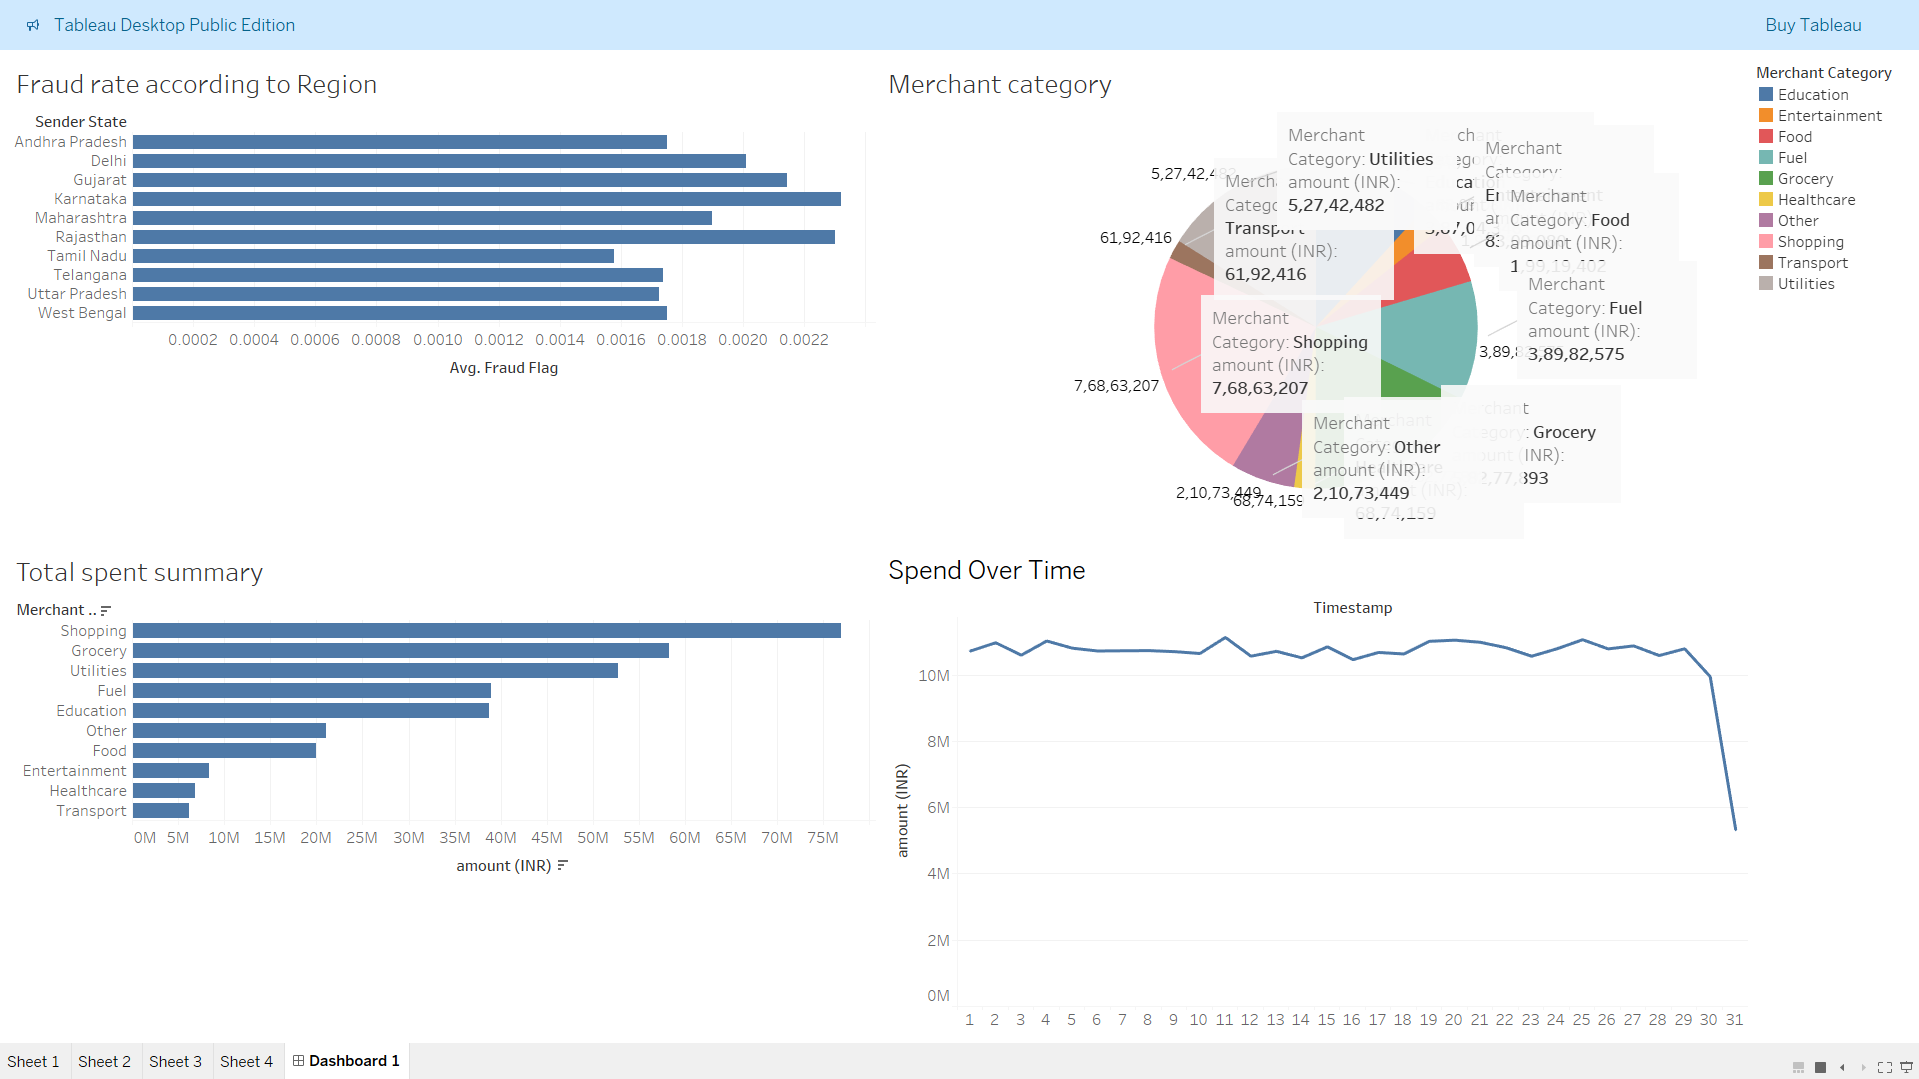

This screenshot's page, from the dashboard's own definition file:
{"tool":"tableau","page":{"name":"Dashboard 1","canvas":[1000,1000],"units":"permille","ordinal":0},"visuals":[{"type":"worksheet","title":"Sheet 1","mark":"Automatic","rows":["sender_state"],"cols":["fraud_flag"],"box":[4.8,10,446.9,490]},{"type":"worksheet","title":"Sheet 2","mark":"Pie","box":[451.7,10,446.9,490]},{"type":"legend","title":"Sheet 2","param":"[federated.0o2zn4q12iucto19ljjx91whzk4z].[none:merchant_category:nk]","box":[898.6,10,96.6,299.6]},{"type":"worksheet","title":"Sheet 3","mark":"Automatic","rows":["merchant_category"],"cols":["amount (INR)"],"box":[4.8,500,446.9,490.1]},{"type":"worksheet","title":"Sheet 4","mark":"Automatic","rows":["amount (INR)"],"cols":["timestamp"],"box":[451.7,500,446.9,490.1]}]}

Visuals, with their boxes on the dashboard's canvas, which has no fixed pixel size, in thousandths of its width and height (x1, y1, x2, y2). These are canvas units, not pixel positions in the 1919x1079 screenshot, which may show the page scaled, cropped or inside an application window:
"Sheet 1" worksheet: (5,10,452,500)
"Sheet 2" worksheet (Pie marks): (452,10,899,500)
"Sheet 2" legend: (899,10,995,310)
"Sheet 3" worksheet: (5,500,452,990)
"Sheet 4" worksheet: (452,500,899,990)
